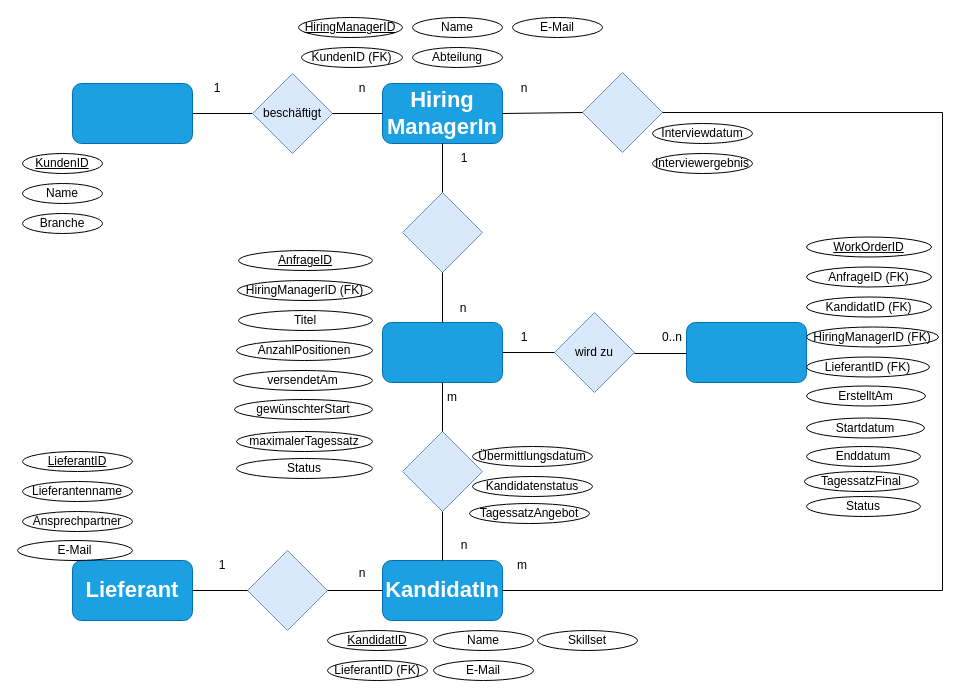
The diagram is 961 pixels wide and 698 high, and some of its shapes have lost their labels. Each missing label, with the box of its shape:
Anfrage: (382, 322, 502, 382)
erstellt: (402, 192, 482, 272)
hat: (246, 550, 328, 630)
interviewt: (582, 72, 662, 152)
Kunde: (72, 82, 192, 144)
wird übermittelt für: (402, 430, 482, 512)
Work Order: (686, 322, 806, 382)
